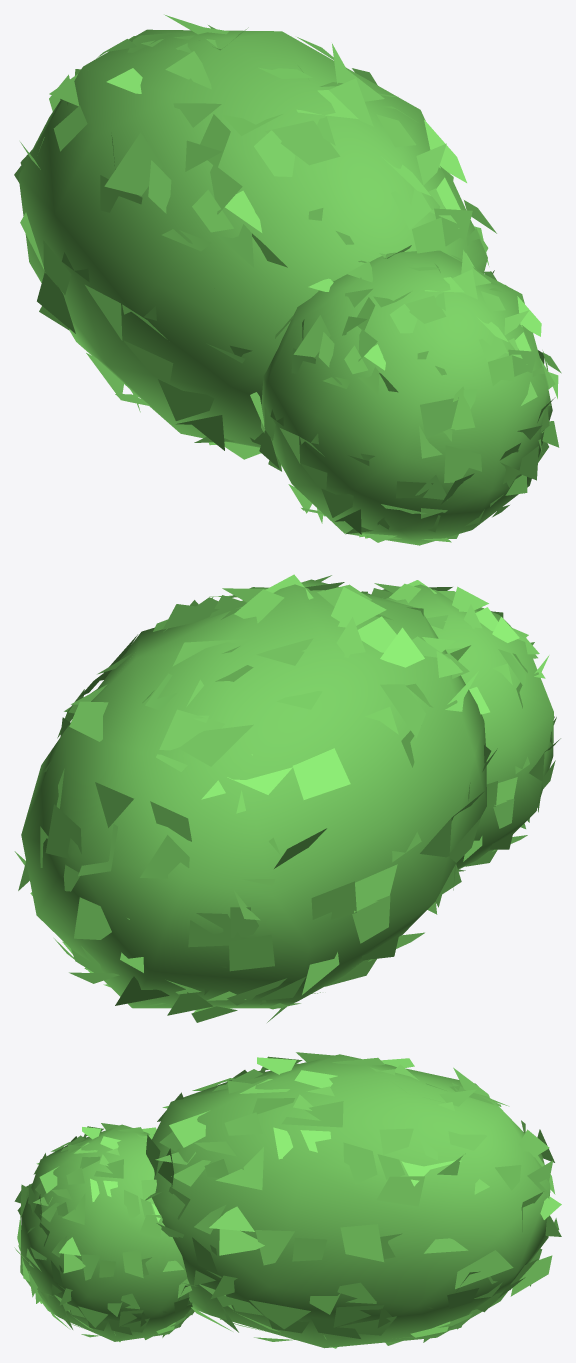
Rendered from BUSH_2.fbx.
3 views of the same model, one above another, from view 1: azimuth 30°, elevation 25°; view 2: azimuth 150°, elevation 25°; view 3: azimuth 270°, elevation 25° (orthographic). The views are drawn at different scales.
Visible parts, largest first — view 1: Cube.015; view 2: Cube.015; view 3: Cube.015.
Boxes of the visible parts, x1,y1,x2,y2 form: Cube.015: [14, 14, 561, 545]; Cube.015: [14, 574, 560, 1022]; Cube.015: [14, 1052, 561, 1348].
Bounding box in the file's own units: 232 × 235 × 440.
